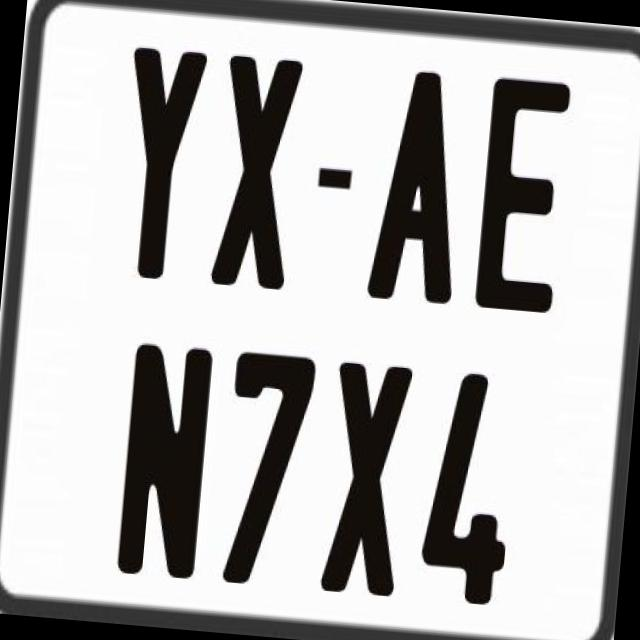4: (413, 366, 519, 608)
7: (214, 350, 314, 586)
A: (364, 69, 471, 312)
E: (470, 71, 576, 313)
N: (112, 339, 215, 576)
X: (206, 50, 307, 295), (316, 362, 408, 598)
Y: (114, 44, 215, 284)
